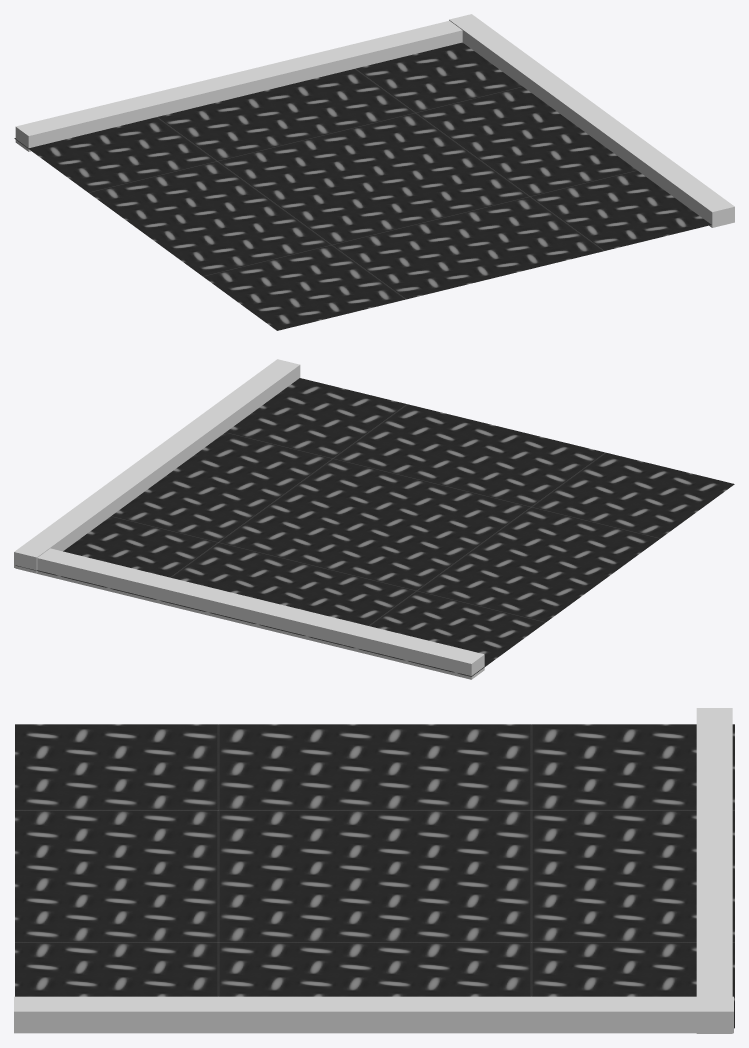
The model's file is GratedFloor4.fbx.
3 renders of one model, top to bottom at view 1: azimuth 30°, elevation 25°; view 2: azimuth 150°, elevation 25°; view 3: azimuth 270°, elevation 25°, orthographic. The views are drawn at different scales.
Parts seen in each view (by area): view 1: wall_big_no_side_full_LOD1.005; view 2: wall_big_no_side_full_LOD1.005; view 3: wall_big_no_side_full_LOD1.005.
Part boxes in pixels (x1,y1,x2,y2): wall_big_no_side_full_LOD1.005: [14, 14, 734, 330]; wall_big_no_side_full_LOD1.005: [14, 359, 734, 679]; wall_big_no_side_full_LOD1.005: [14, 708, 734, 1033].
Size of the model in its own units: 4014 by 139 by 4006.
